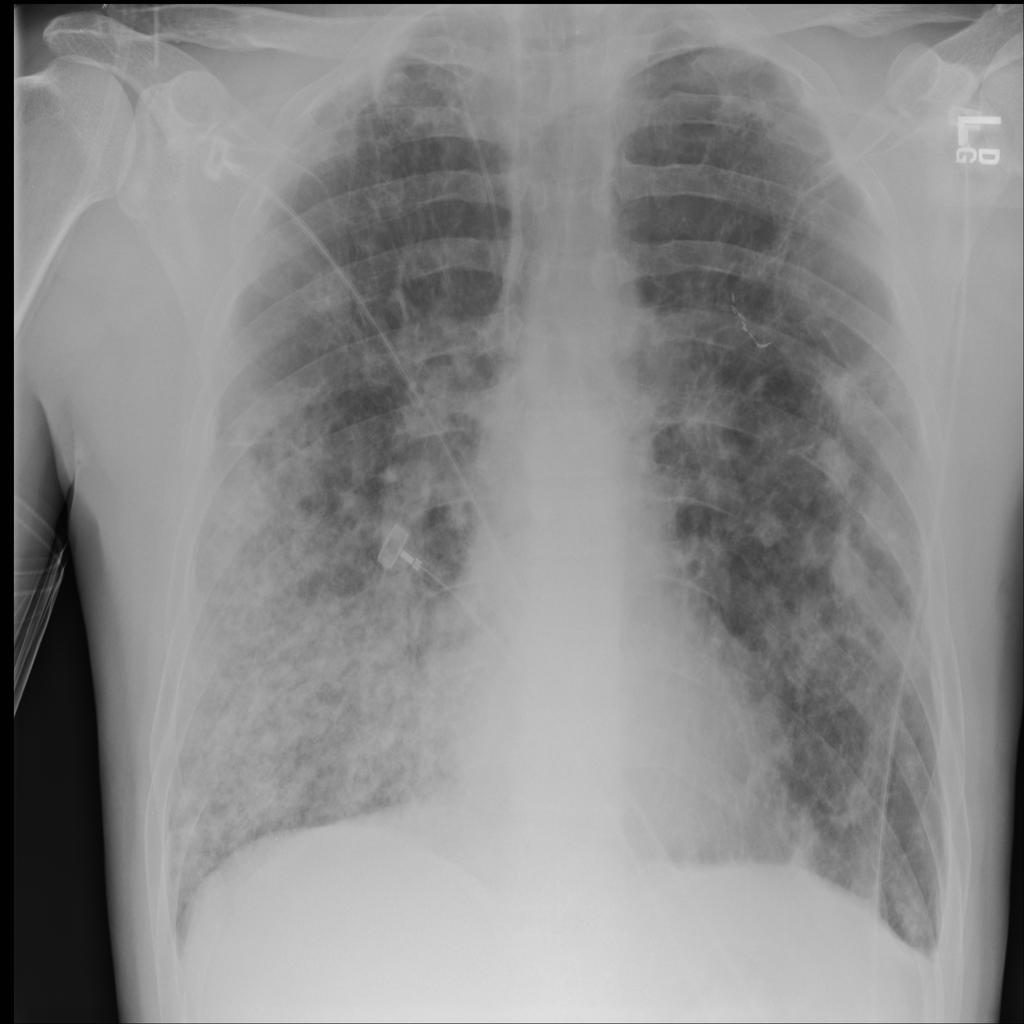nodule: (766, 787, 829, 885), (288, 252, 362, 330), (820, 760, 882, 844), (821, 522, 880, 608), (807, 421, 862, 507), (745, 496, 790, 559)
